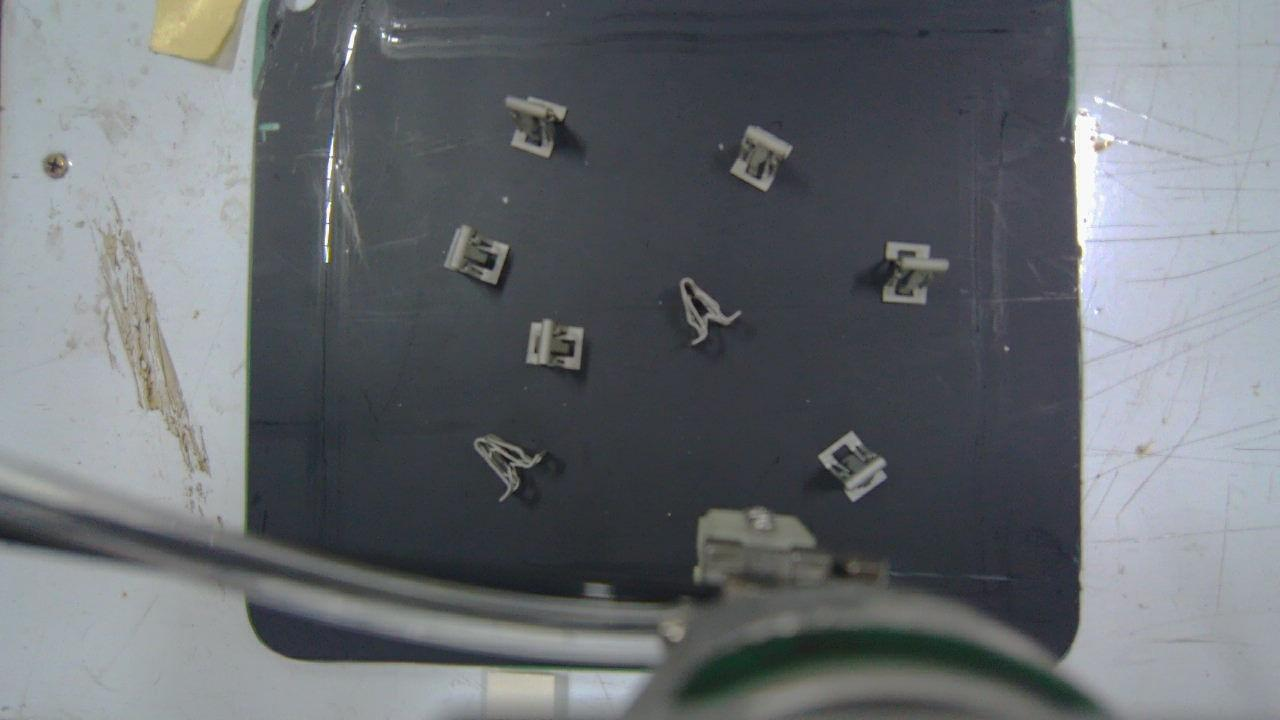ng: (819, 431, 890, 502), (475, 433, 542, 504), (679, 278, 743, 344), (441, 228, 511, 286), (730, 125, 792, 190), (507, 97, 568, 155), (526, 322, 582, 369)
pass: (883, 242, 950, 304)
